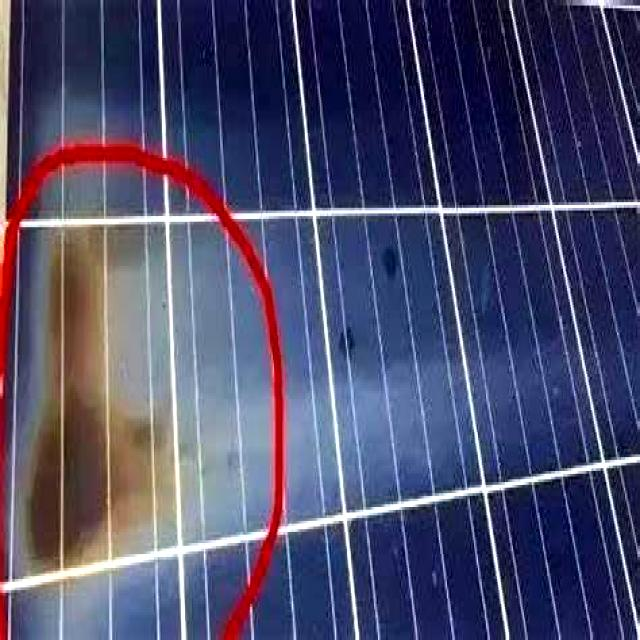shadow: (7, 212, 214, 596)
